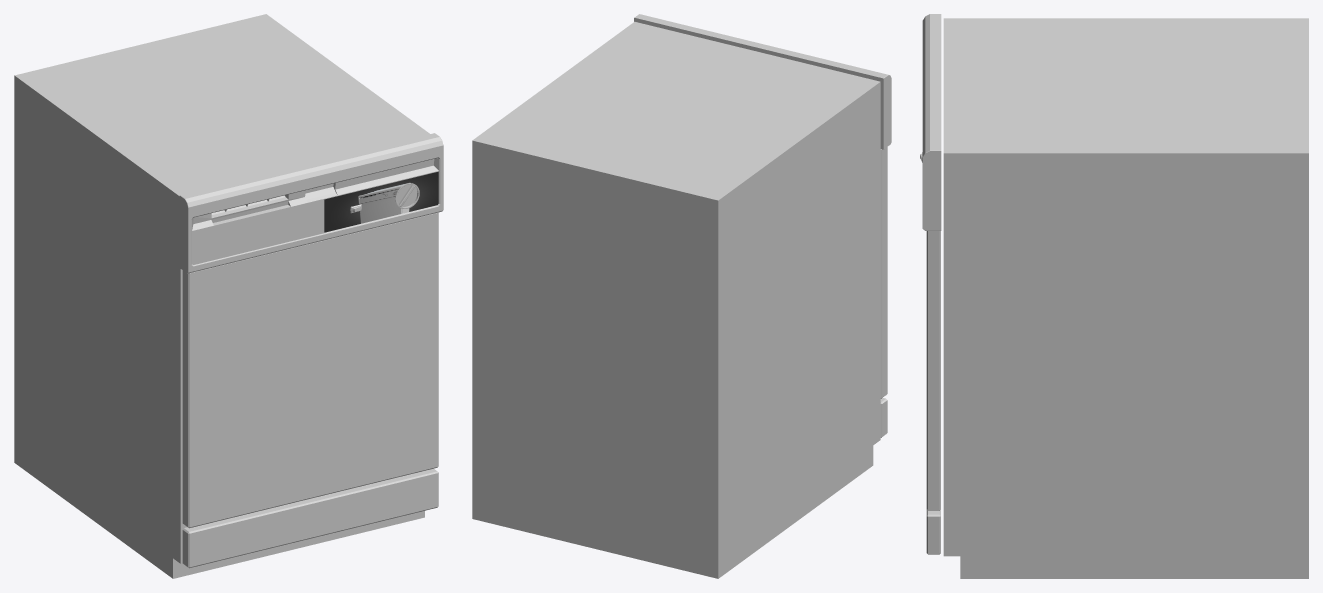
Rendered from dishwasher.fbx.
3 renders of one model, left to right at view 1: azimuth 30°, elevation 25°; view 2: azimuth 150°, elevation 25°; view 3: azimuth 270°, elevation 25°, orthographic. The views are drawn at different scales.
Visible parts, largest first — view 1: dishWasher, dishWasher_faceplate; view 2: dishWasher; view 3: dishWasher.
Boxes of the visible parts, x1,y1,x2,y2 form: dishWasher: (14,14,443,578); dishWasher_faceplate: (324,172,438,232); dishWasher: (472,14,891,578); dishWasher: (920,14,1308,578).
Size of the model in its own units: 0.9226 by 1.35 by 1.11.
